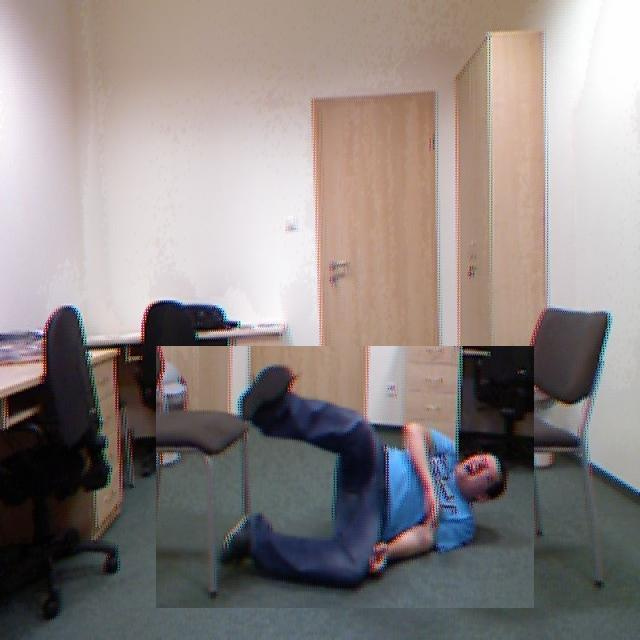Fall: (224, 386, 563, 620)
